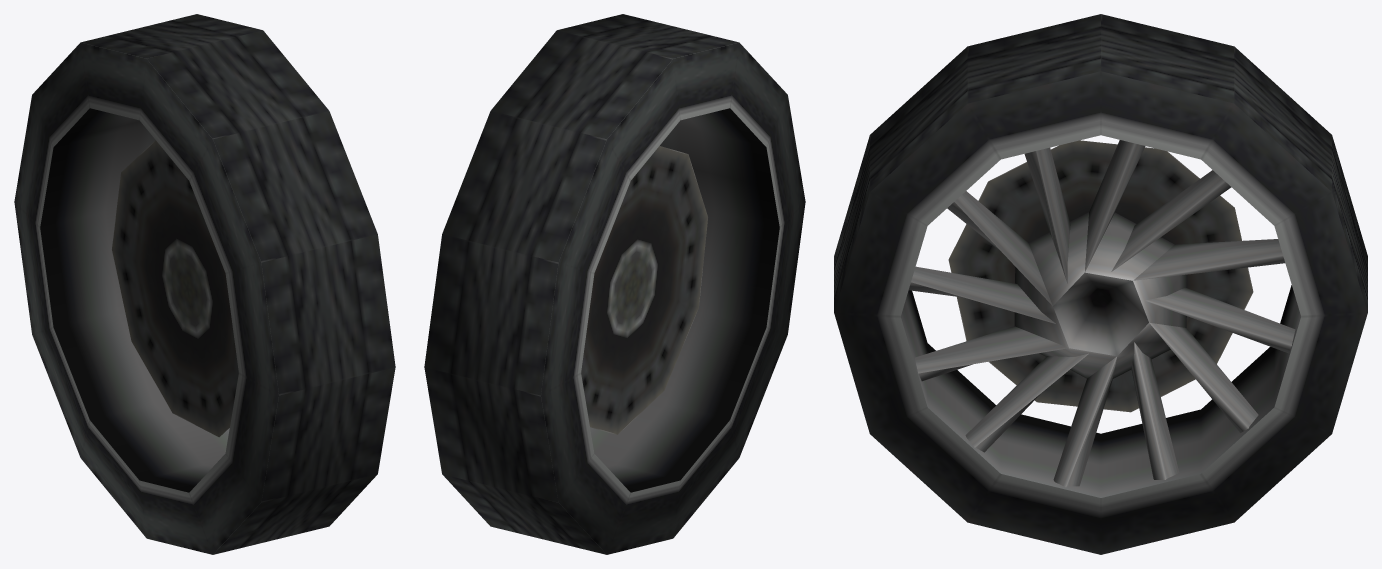
Rendered from wheel_gn2.glb.
3 views of the same model, side by side, from view 1: azimuth 30°, elevation 25°; view 2: azimuth 150°, elevation 25°; view 3: azimuth 270°, elevation 25° (orthographic).
Visible parts, largest first — view 1: wheel_gn2; view 2: wheel_gn2; view 3: wheel_gn2.
Part boxes in pixels (box(x1,y1,x2,y2)): wheel_gn2: box(14, 14, 395, 554); wheel_gn2: box(424, 14, 805, 554); wheel_gn2: box(834, 14, 1367, 554).
Bounding box in the file's own units: 0.281 × 0.9843 × 0.9843.
Materials: 2 (2 with a texture image).
